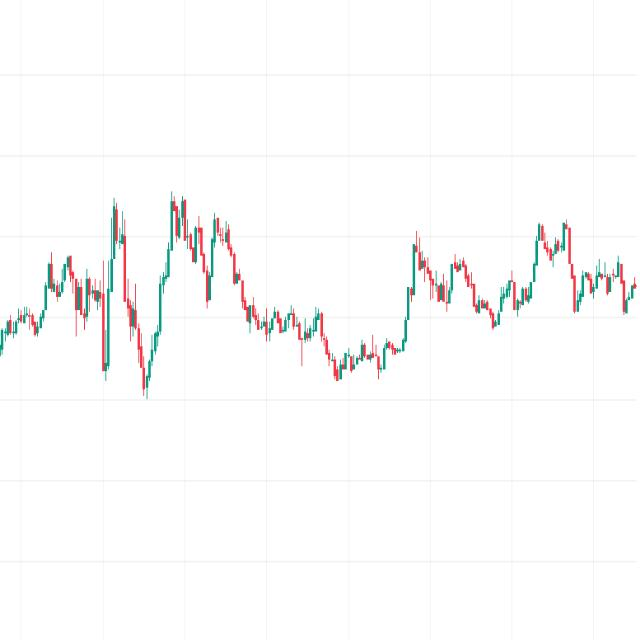Cup-and-handle: (220, 218, 458, 389)
Double-Top: (529, 207, 577, 295)
